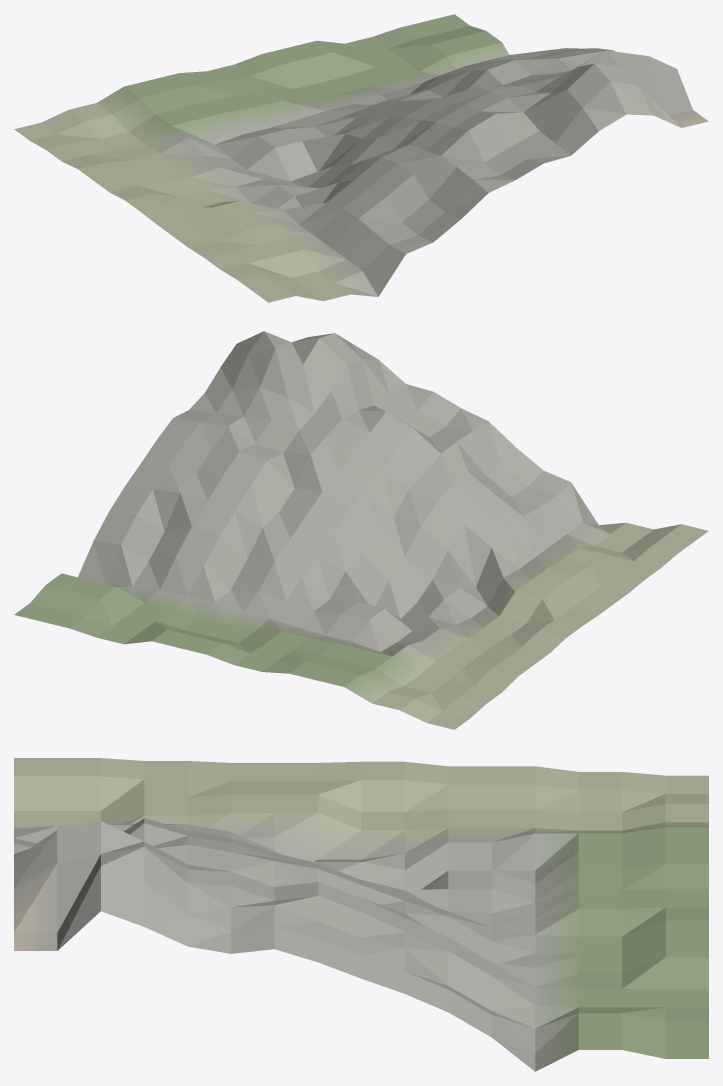
3 views of the same model, one above another, from view 1: azimuth 30°, elevation 25°; view 2: azimuth 150°, elevation 25°; view 3: azimuth 270°, elevation 25° (orthographic). The views are drawn at different scales.
Size of the model in its own units: 32 by 10.58 by 32.
